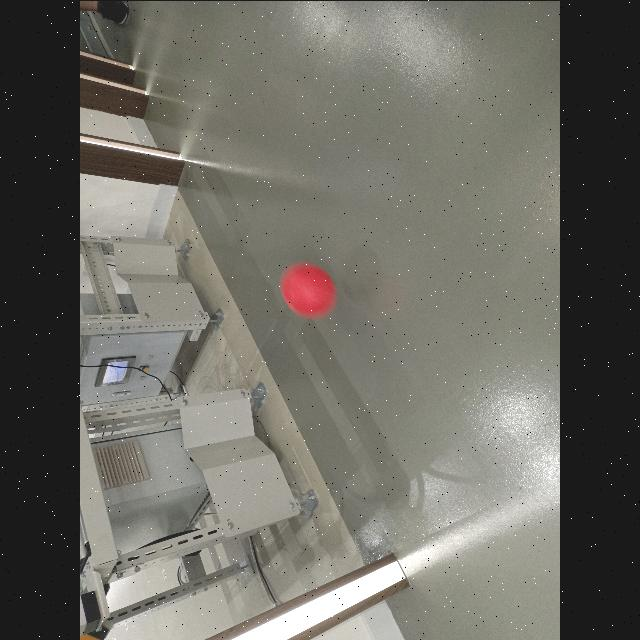R: (275, 258, 343, 320)
